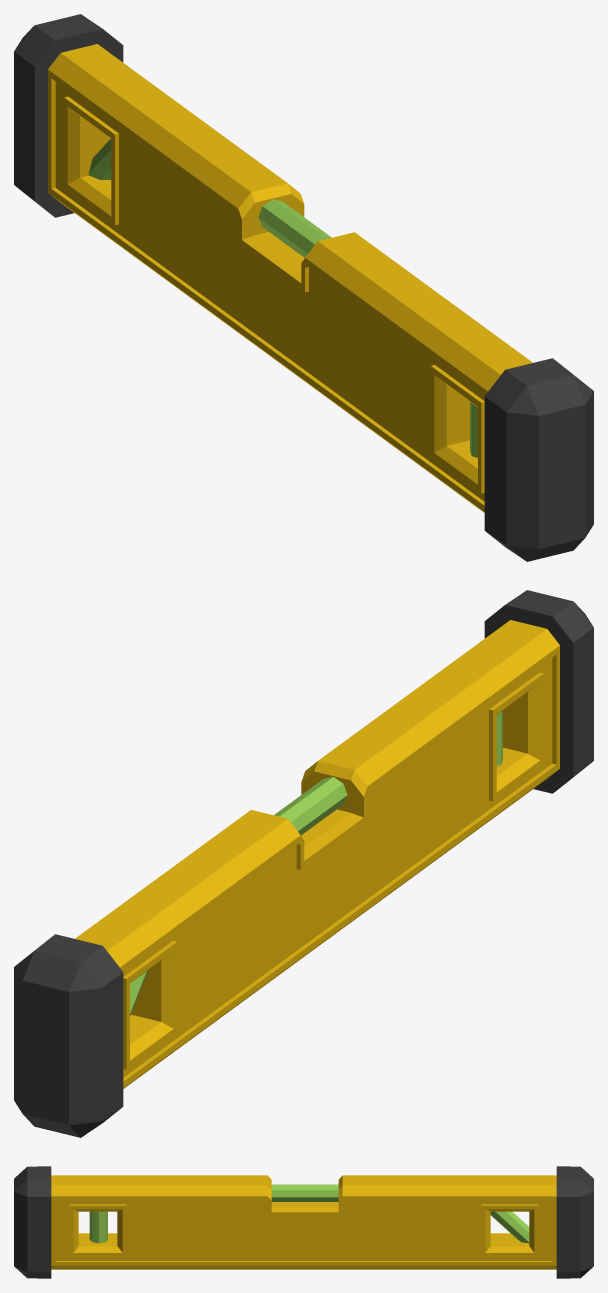
File: Level.glb
3 views of the same model, one above another, from view 1: azimuth 30°, elevation 25°; view 2: azimuth 150°, elevation 25°; view 3: azimuth 270°, elevation 25° (orthographic). The views are drawn at different scales.
Parts seen in each view (by area): view 1: Level; view 2: Level; view 3: Level.
Boxes of the visible parts, bbox=[...] form: Level: bbox=[14, 14, 593, 561]; Level: bbox=[14, 590, 593, 1137]; Level: bbox=[14, 1166, 593, 1278].
Size of the model in its own units: 13.75 by 26.3 by 139.
